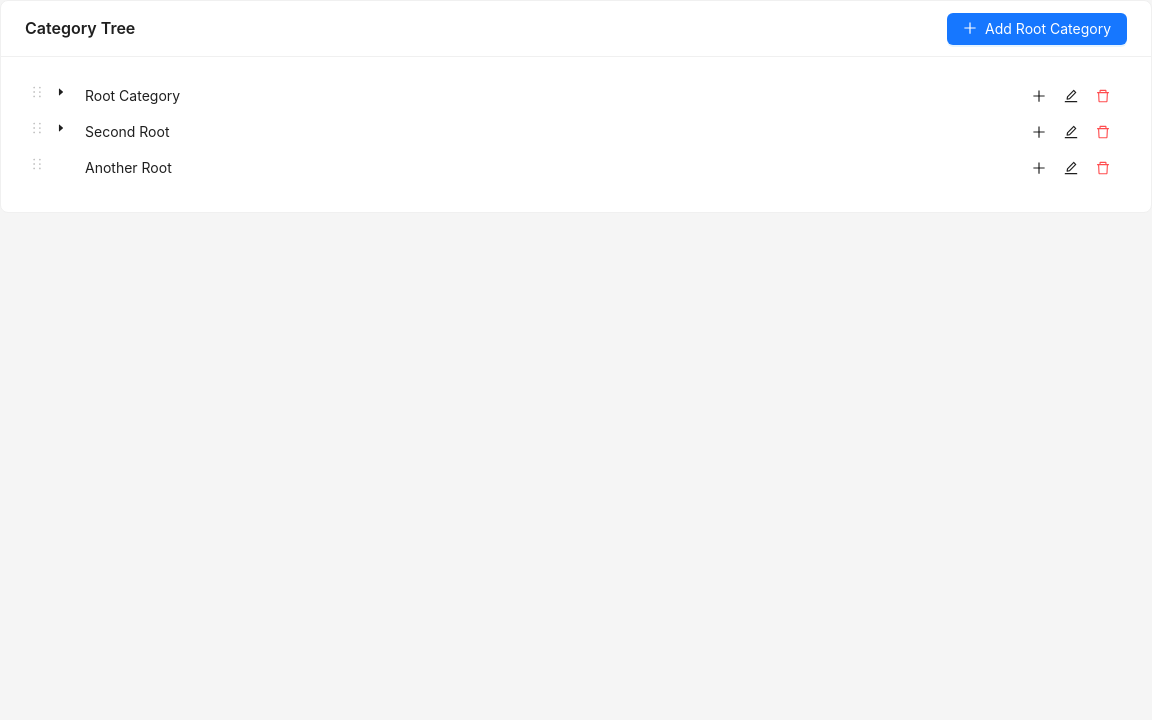
Test case: CategoryTree › opens add category modal when clicking Add Root Category button
Expected: the text "Add Root Category" is shown, left=985, top=18, right=1111, bottom=40
Step 1. Click the button "Add Root Category" → click(1037, 28), box left=947, top=12, right=1127, bottom=44
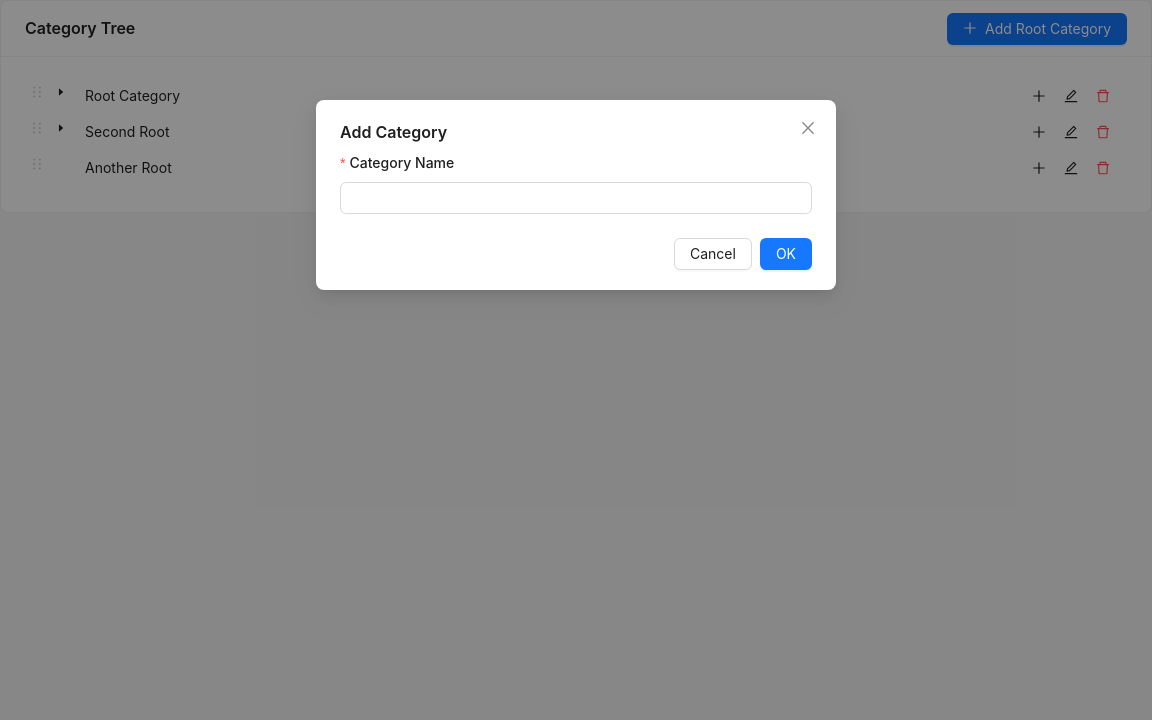
Result: the dialog is shown at left=316, top=100, right=836, bottom=314
